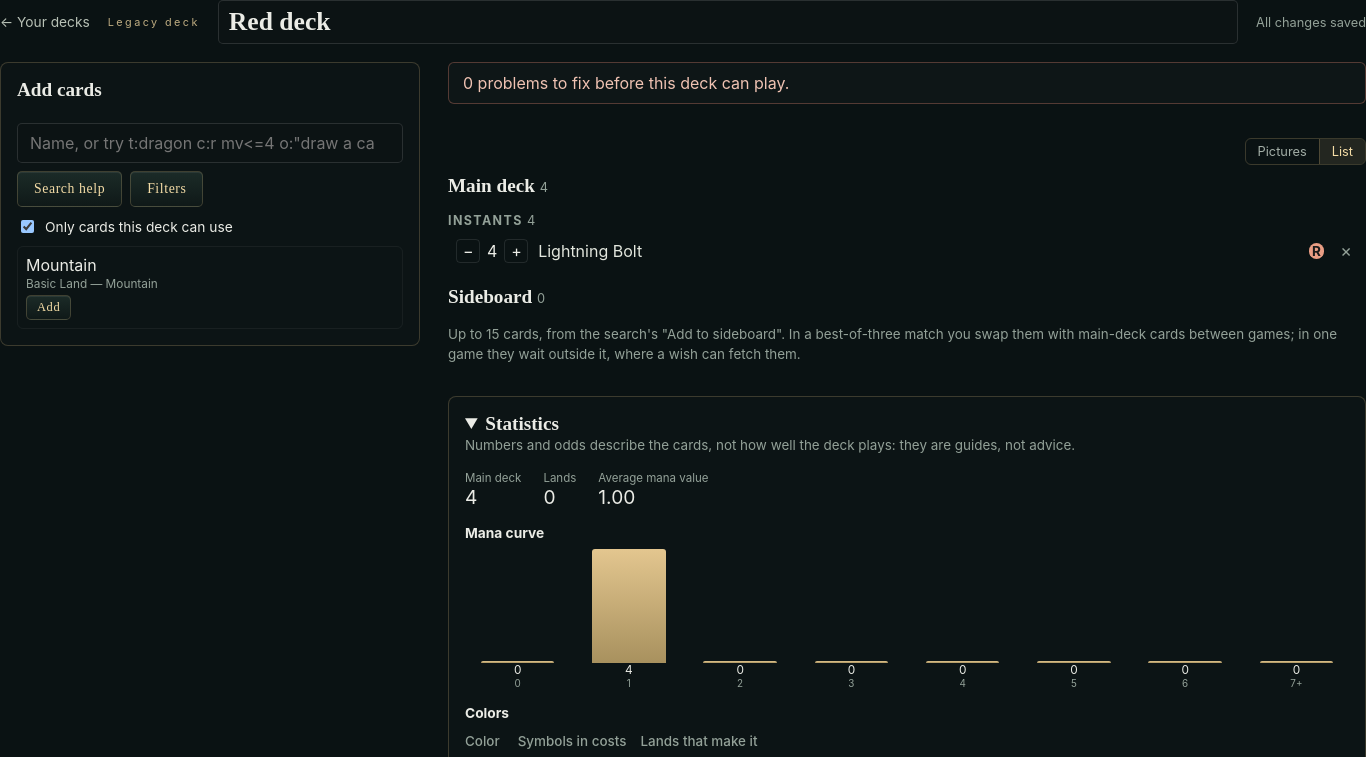
Test case: the deck editor › asks what to keep when another tab saved first, and can combine both
Expected: the button "Mountain Basic Land — Mountain" is shown, [26,255,386,291]
Step 1. Click the button "Add" → (49, 308), box [26,295,71,320]
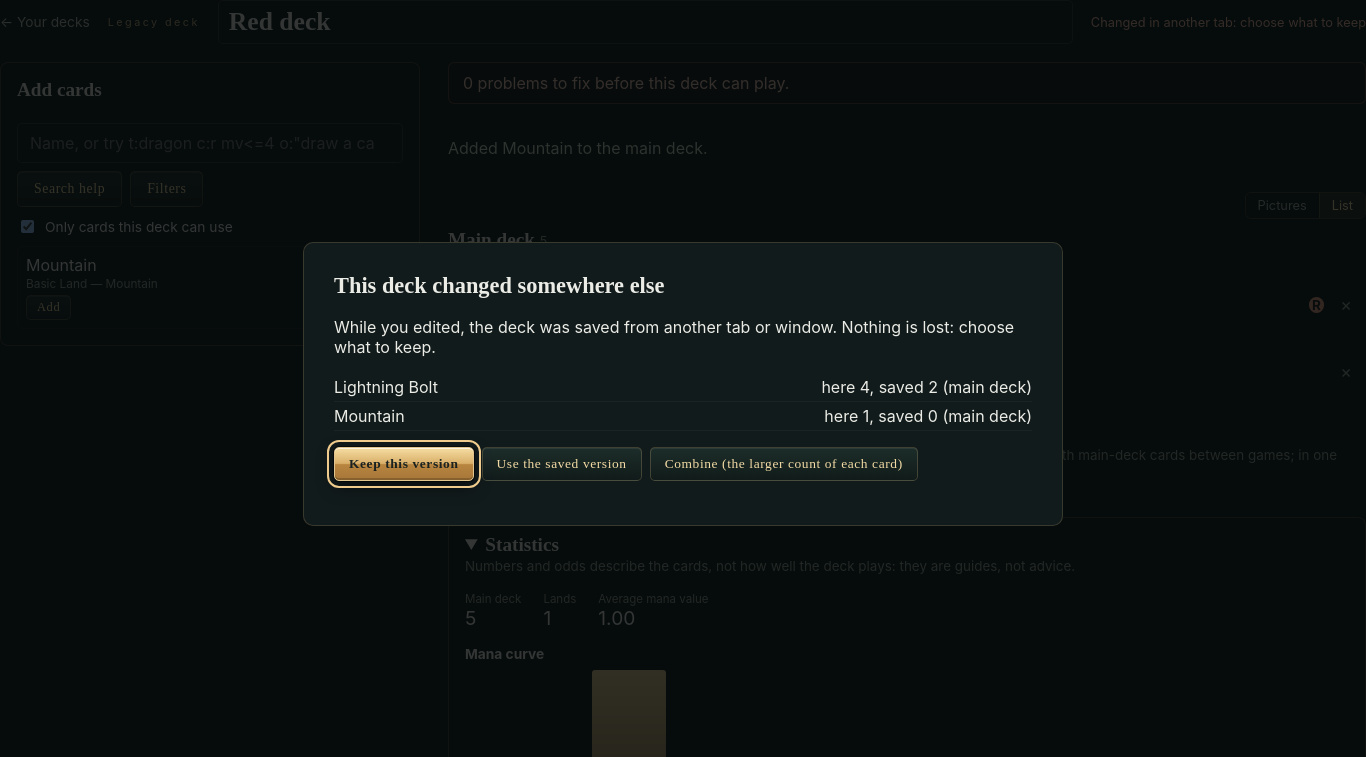
Step 2. Click the button "Combine (the larger count of each card)" → (784, 464), box [650,447,918,481]
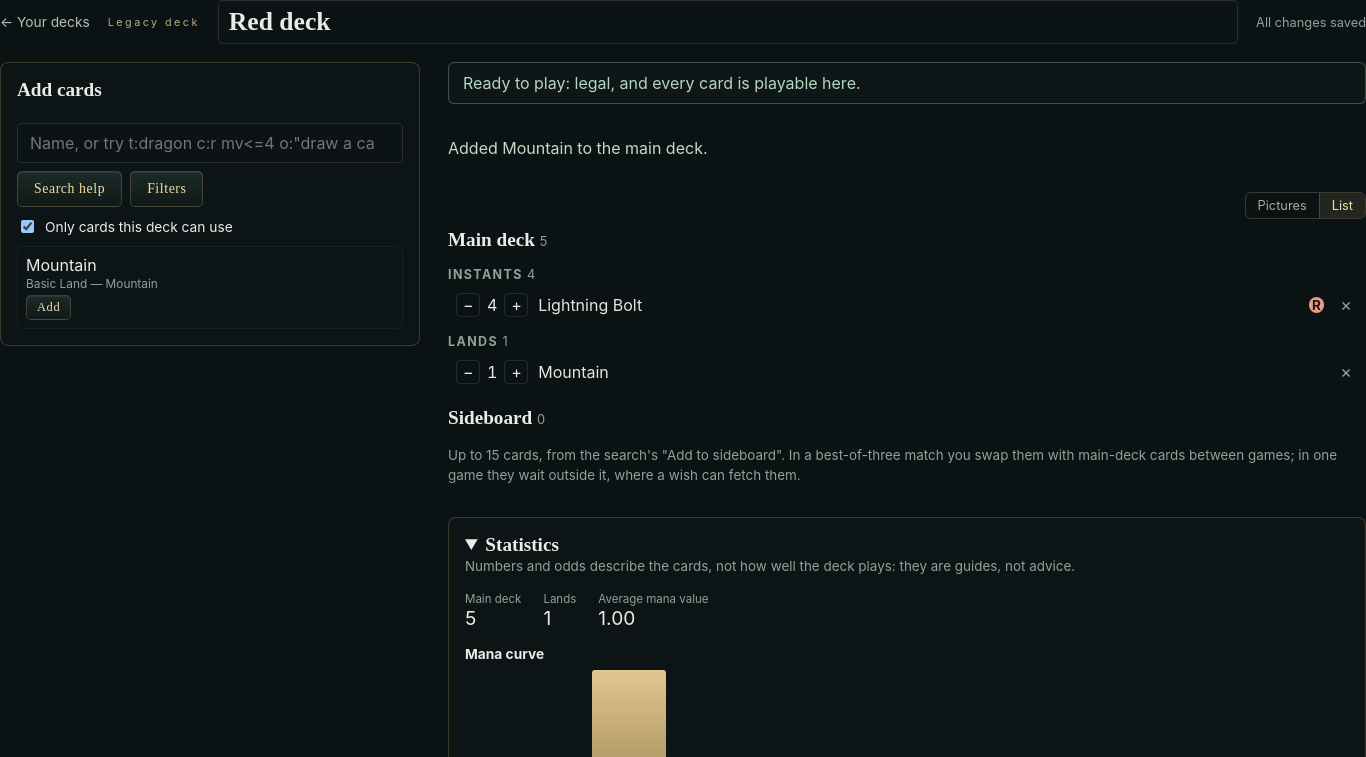
Result: the text "All changes saved" is shown at [1256,14,1365,30]
